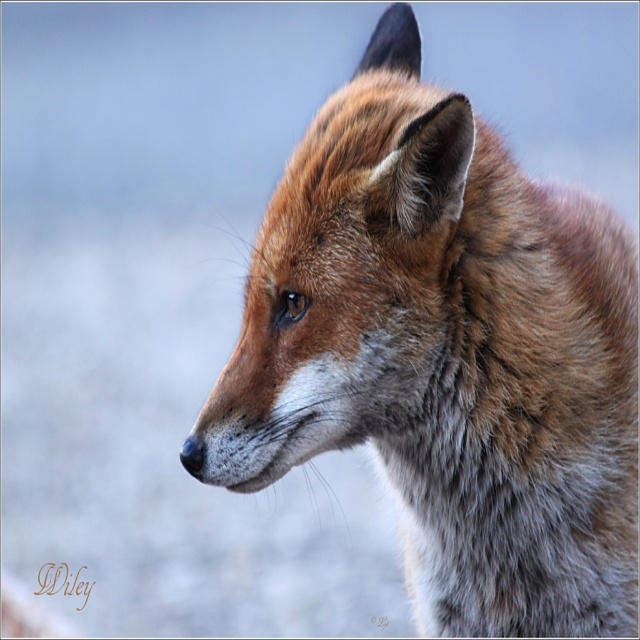Fox: (176, 0, 640, 639)
